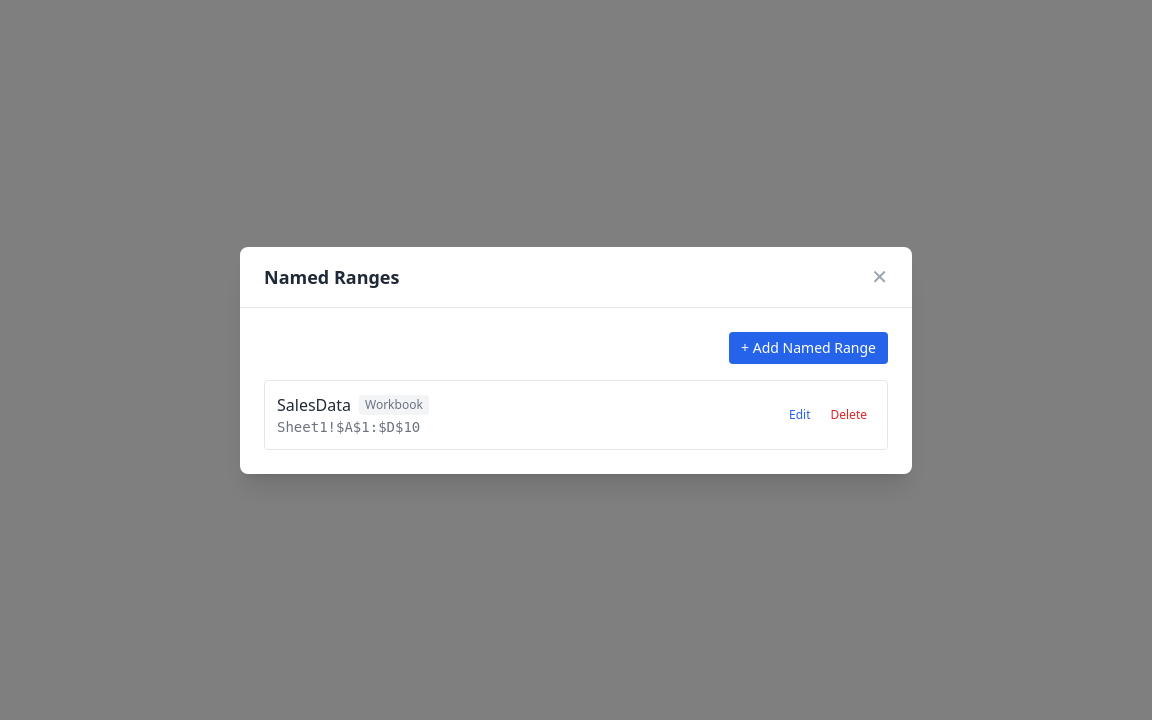
Test: NamedRangesModal › validates duplicate name
Step 1. Click the button "+ Add Named Range" → click(809, 348), box [729,332,888,364]
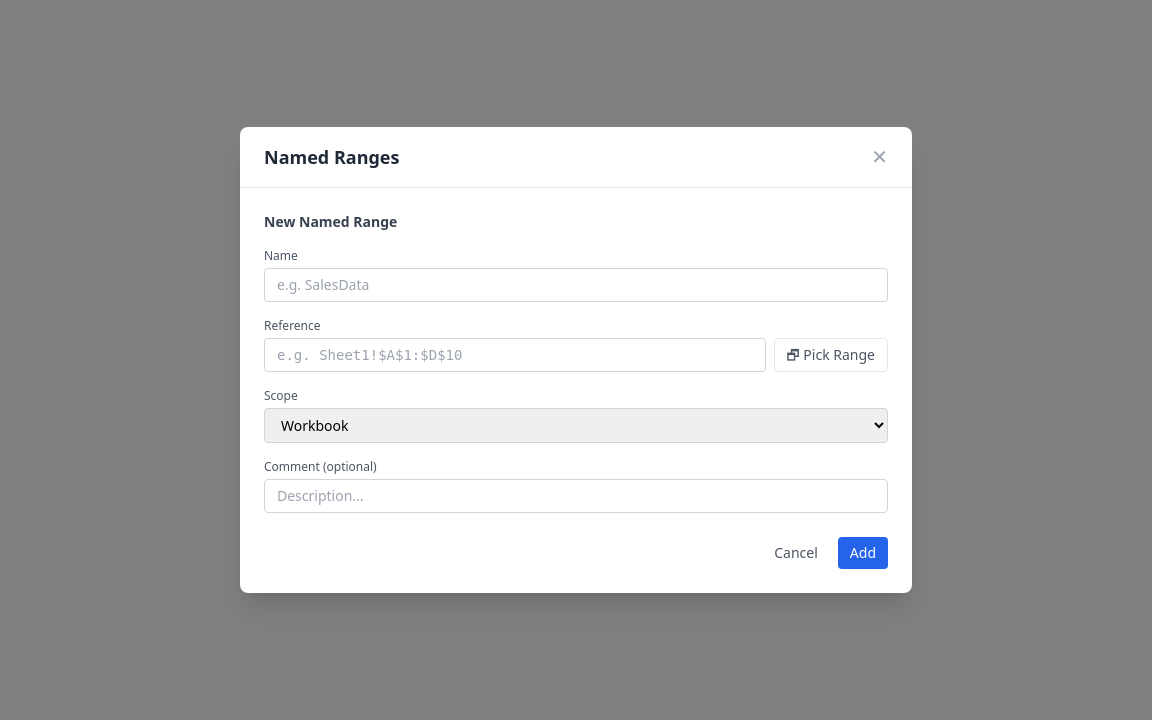
Step 2. Type "SalesData" into the field with test id "named-range-name-input" → (576, 285), box [264,268,888,302]
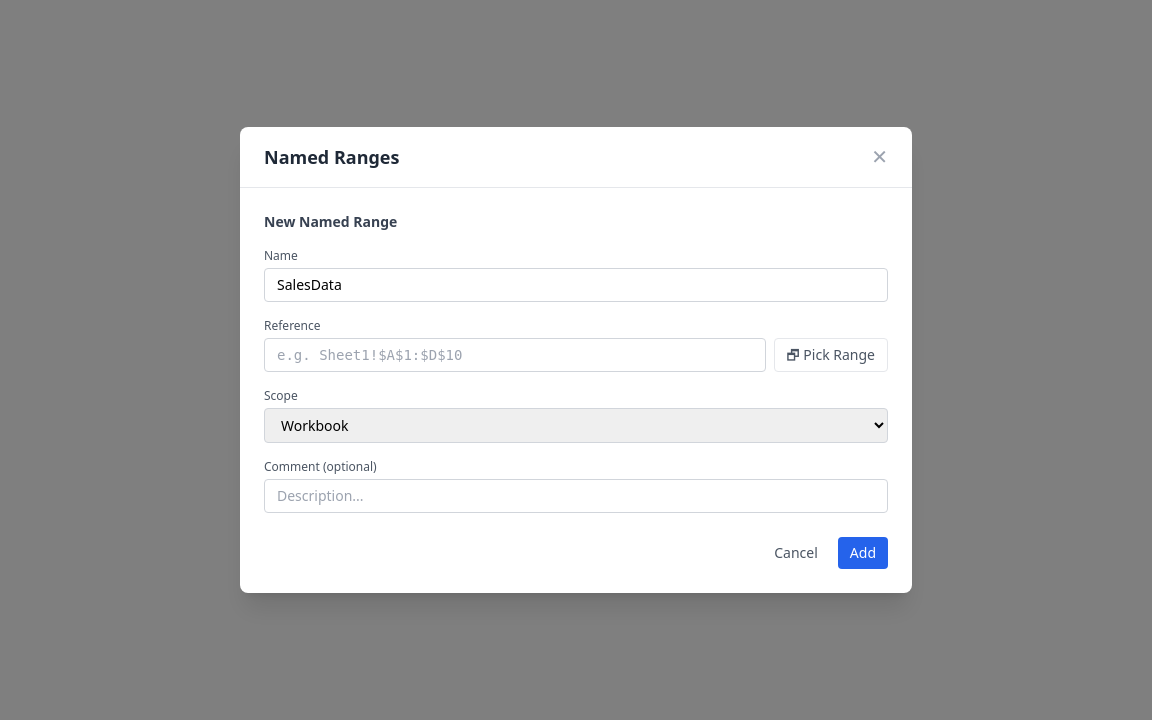
Step 3. Type "$A$1" into the field with test id "named-range-reference-input" → (515, 355), box [264,338,766,372]
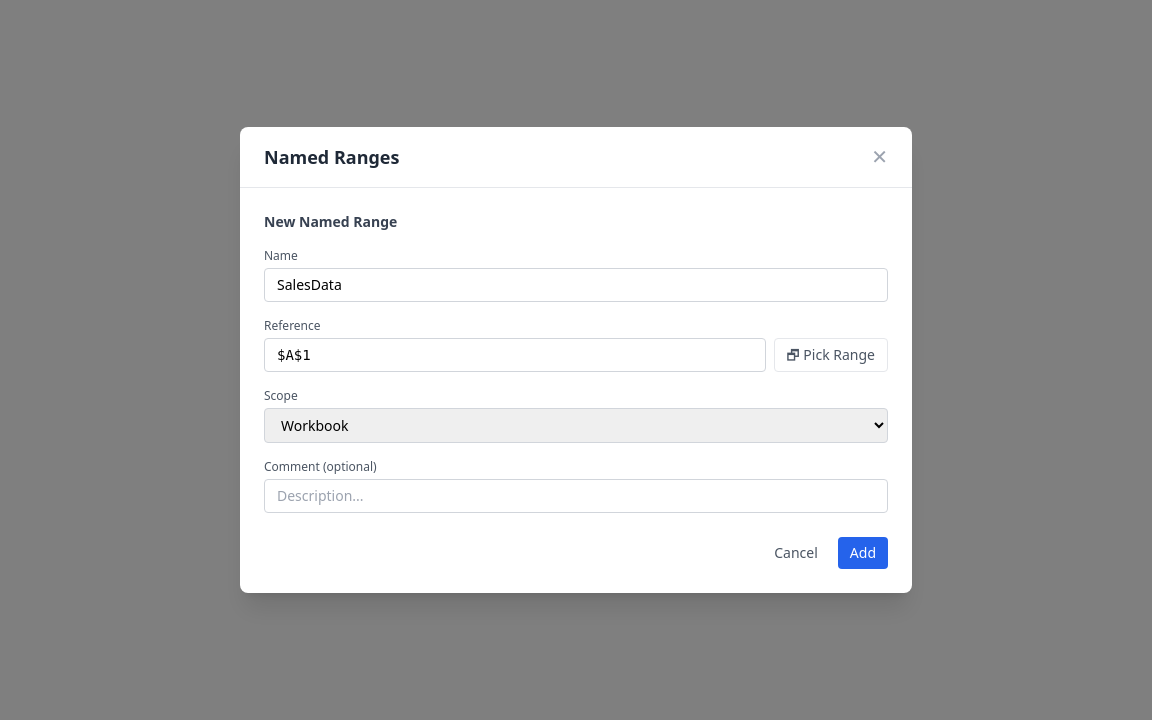
Step 4. Click the button with test id "named-range-save" → click(863, 553), box [838,537,888,569]
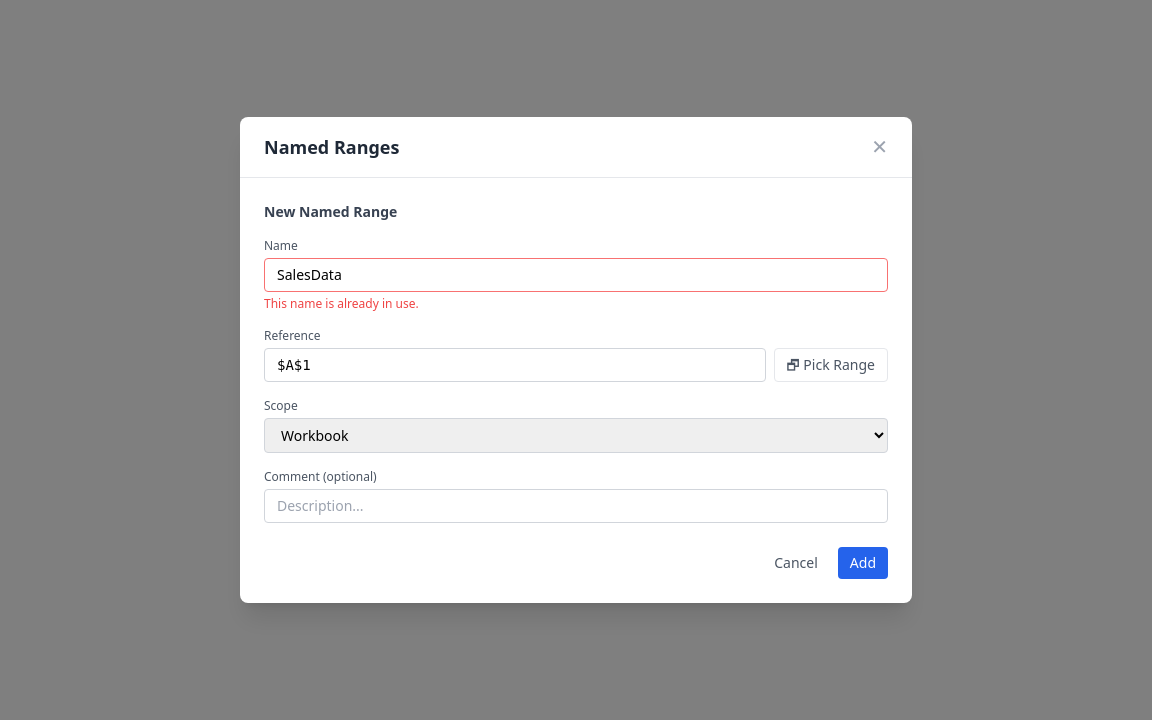
Now the text "This name is already in use." is shown, box [264,295,419,312]
